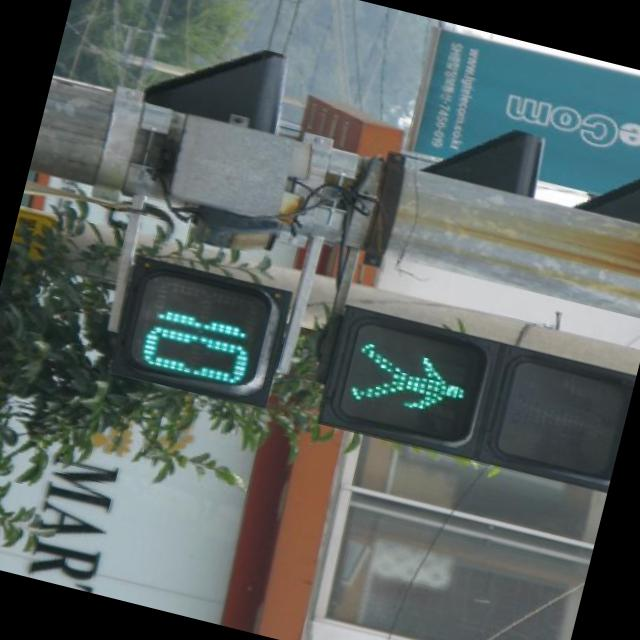green_light: (121, 265, 488, 453)
